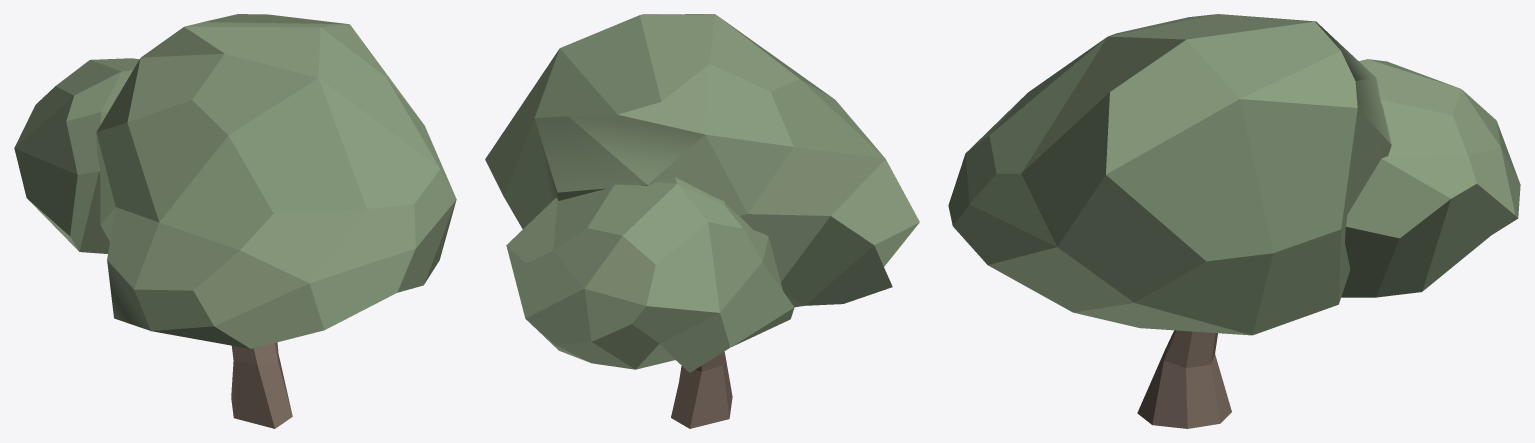
The model's file is Bush3.fbx.
The picture shows the model from 3 angles, left to right: view 1: azimuth 30°, elevation 25°; view 2: azimuth 150°, elevation 25°; view 3: azimuth 270°, elevation 25°; orthographic projection. The views are drawn at different scales.
Visible parts, largest first — view 1: Shrub1; view 2: Shrub1; view 3: Shrub1.
Part boxes in pixels (x1,y1,x2,y2): Shrub1: (14, 14, 456, 428); Shrub1: (485, 14, 919, 428); Shrub1: (948, 14, 1520, 428).
Bounding box in the file's own units: 6.98 × 7.17 × 9.04.
